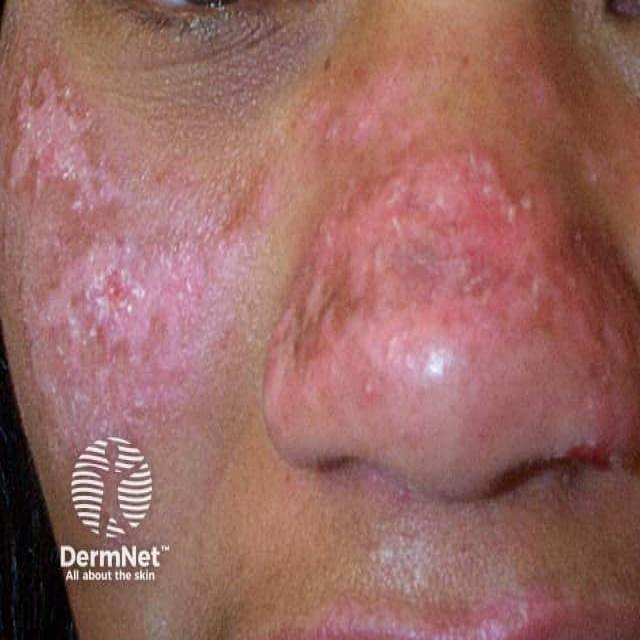lupus-detected: (263, 132, 608, 489), (7, 57, 252, 460)
